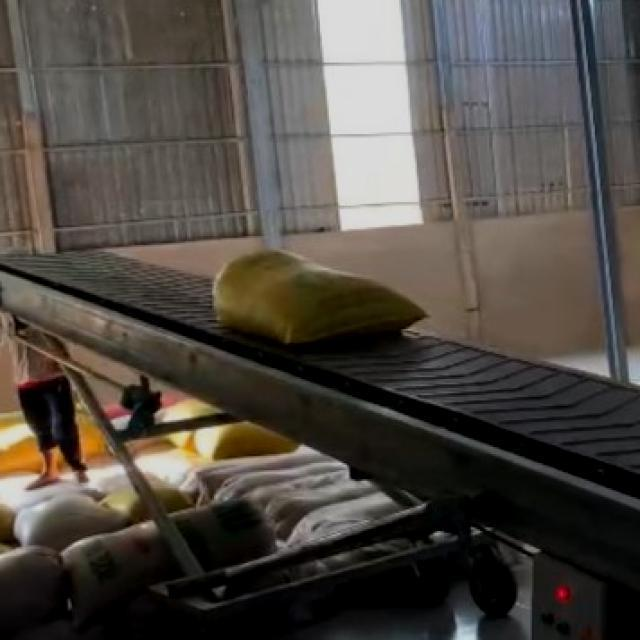gunny_bag: (212, 250, 426, 346)
